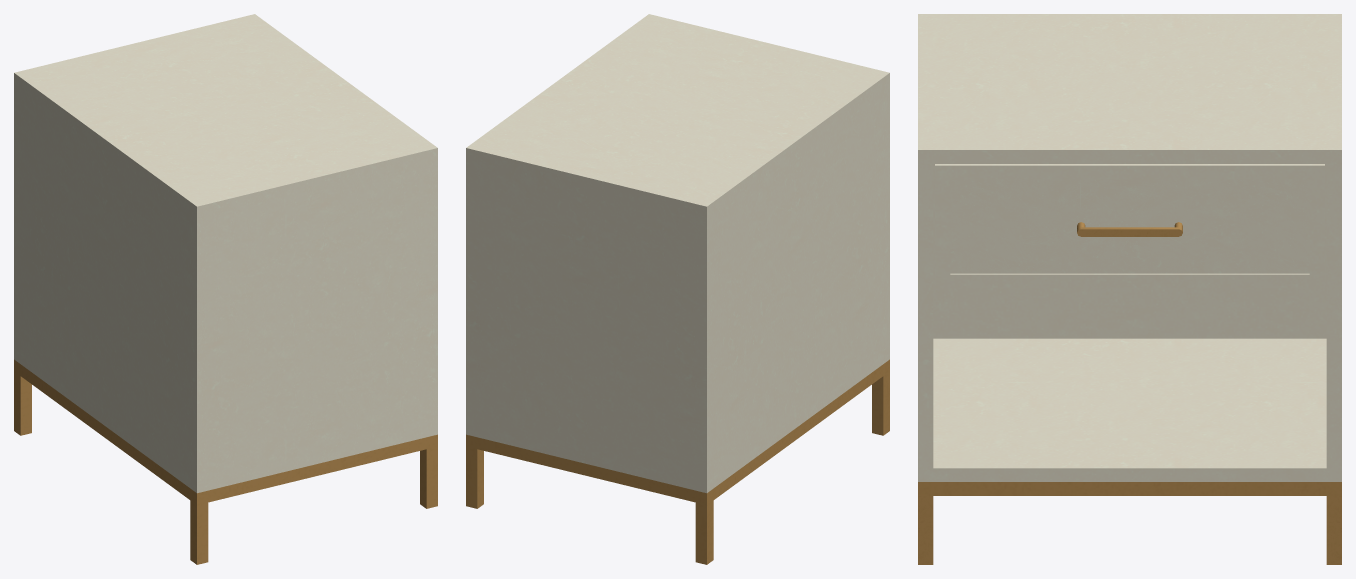
File: Mdl.Nightstand.fbx
The picture shows the model from 3 angles, left to right: view 1: azimuth 30°, elevation 25°; view 2: azimuth 150°, elevation 25°; view 3: azimuth 270°, elevation 25°; orthographic projection. The views are drawn at different scales.
Visible parts, largest first — view 1: Nightstand; view 2: Nightstand; view 3: Nightstand.
Part boxes in pixels (x1,y1,x2,y2): Nightstand: [14, 14, 437, 564]; Nightstand: [466, 14, 889, 564]; Nightstand: [918, 14, 1341, 564].
Bounding box in the file's own units: 0.397 × 0.54 × 0.5.
Materials: 1 (1 with a texture image).
